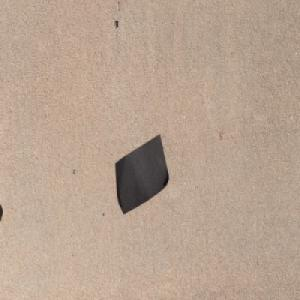PaintChip: (115, 132, 169, 216)
